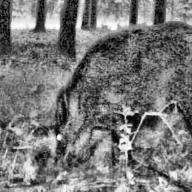boar: (40, 18, 192, 178)
